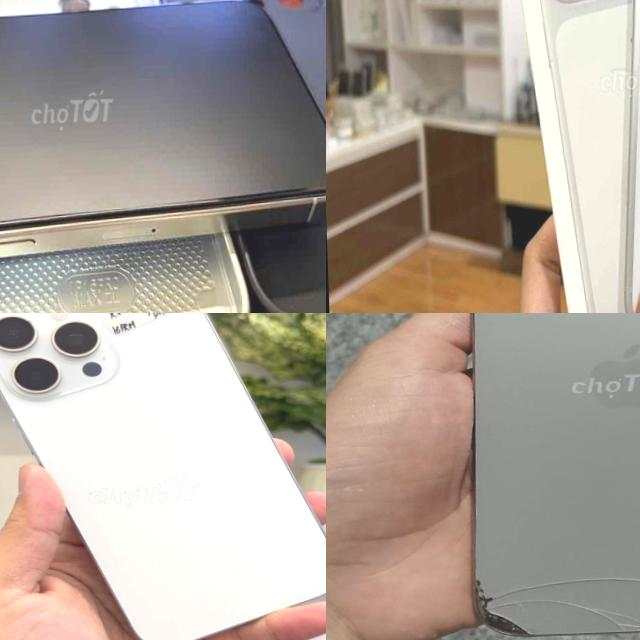physical_damage: (465, 539, 640, 627), (450, 578, 531, 638)
